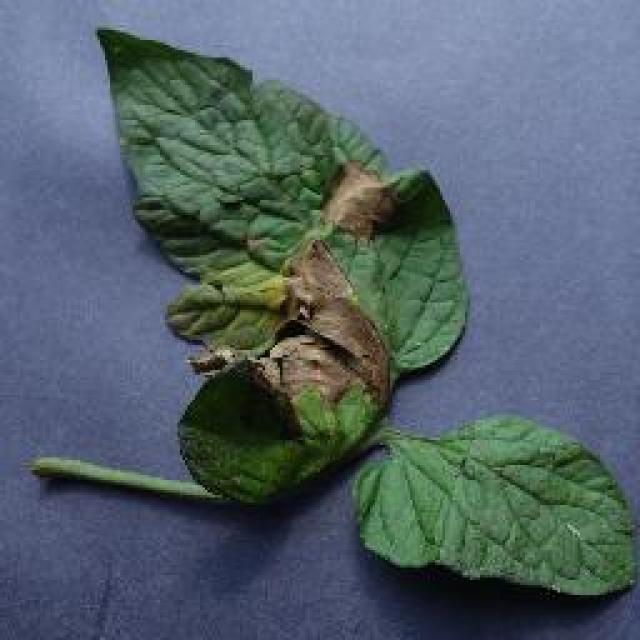Tomato Late Blight: (235, 135, 462, 420)
